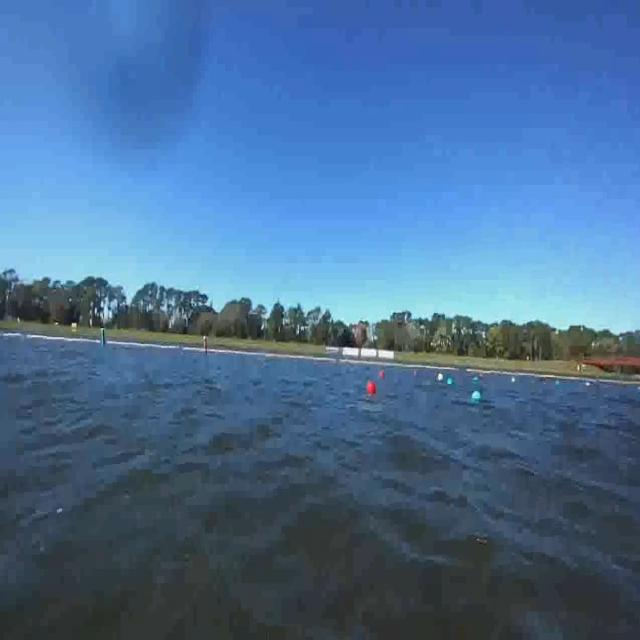green-buoy: (470, 390, 481, 404), (446, 376, 454, 388), (474, 375, 479, 383)
red-buoy: (366, 381, 376, 396), (378, 368, 386, 382)
yellow-buoy: (437, 370, 444, 384)
